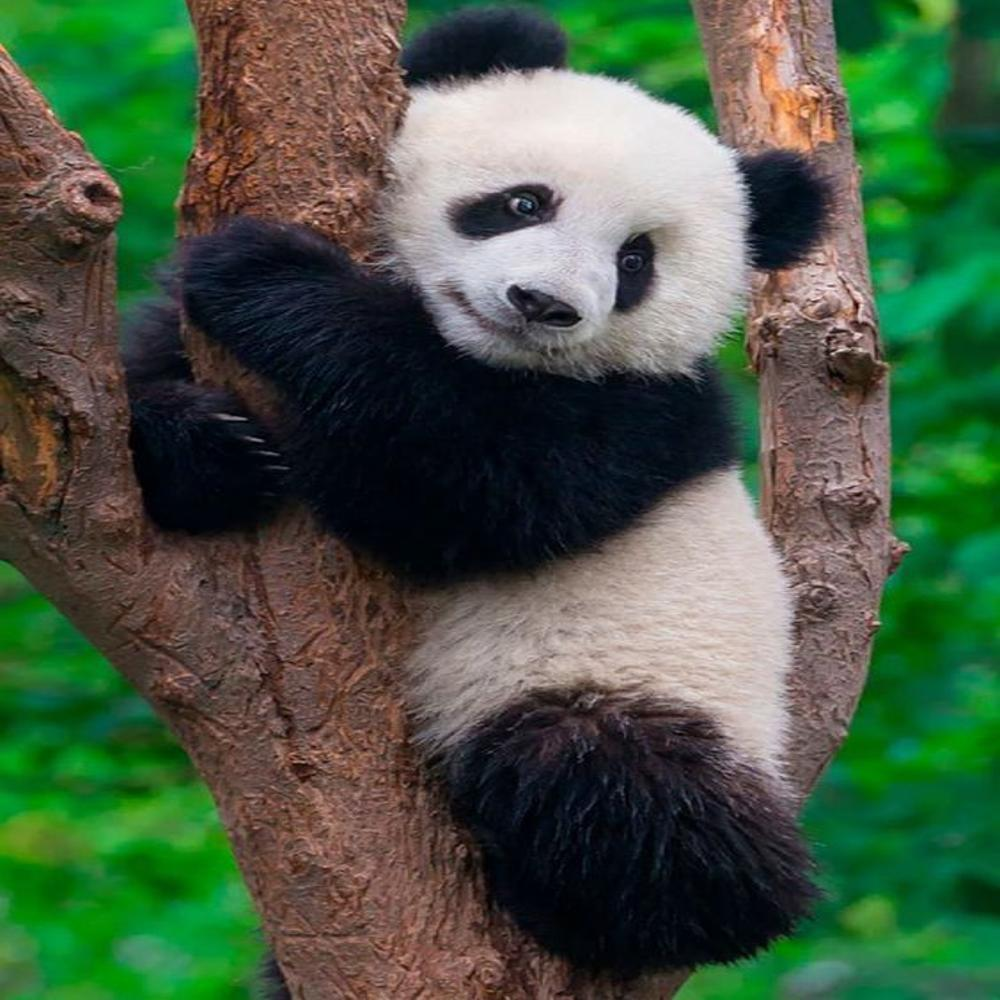panda: (121, 10, 818, 988)
